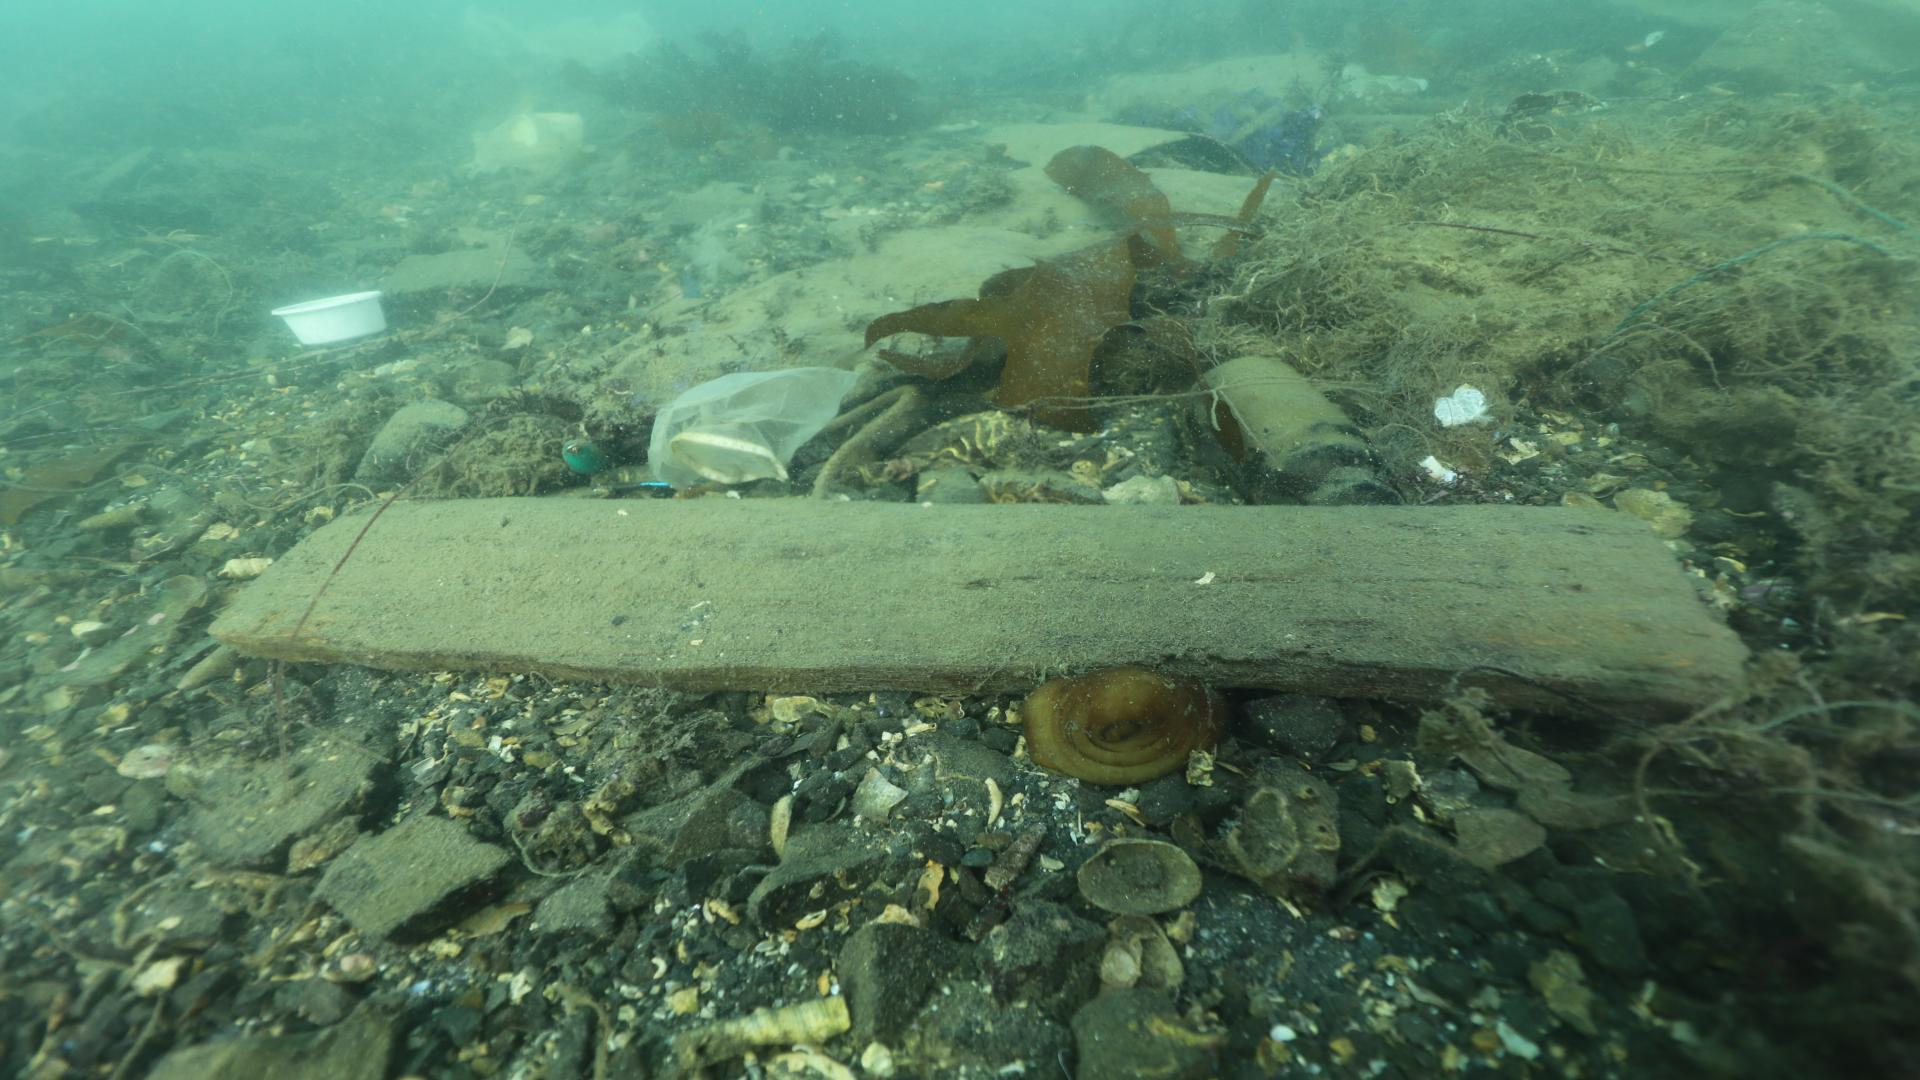wood: (211, 487, 1754, 737)
